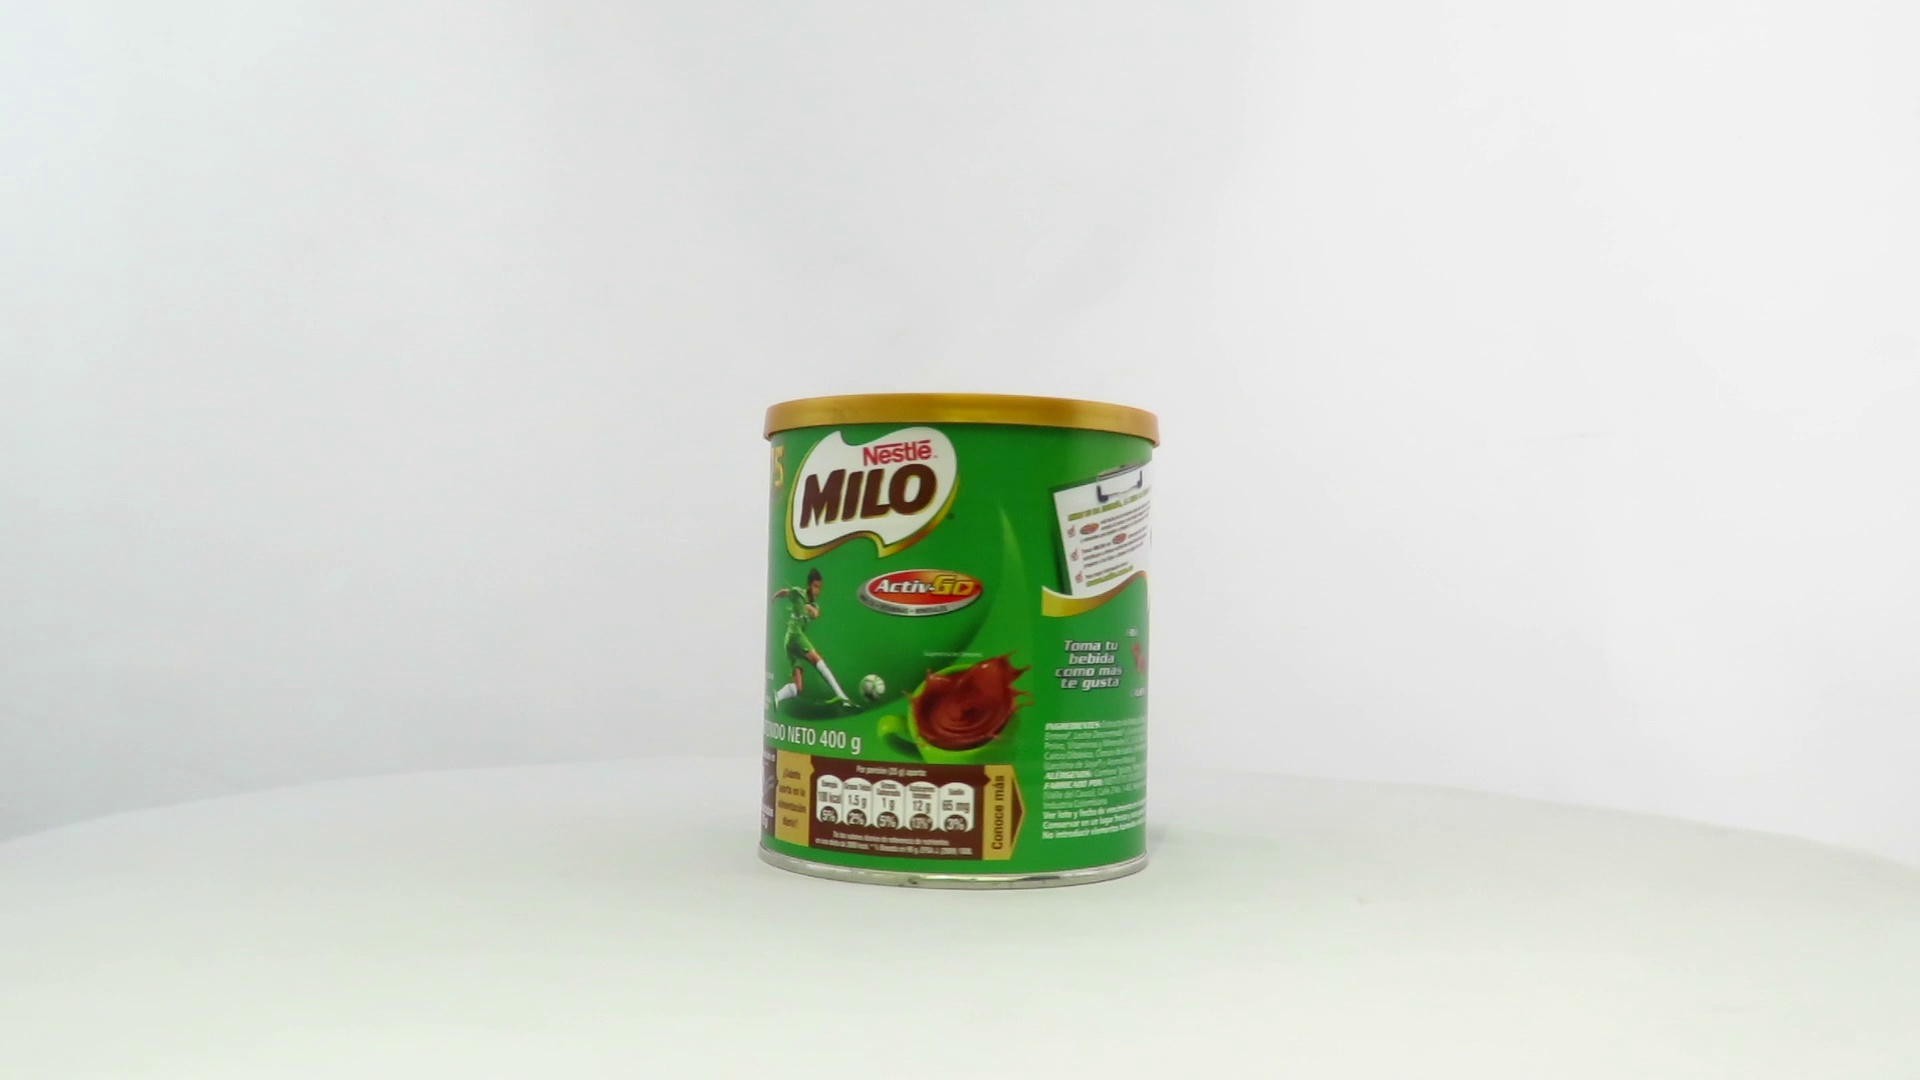COL0170203LAT40000: (752, 388, 1166, 897)
